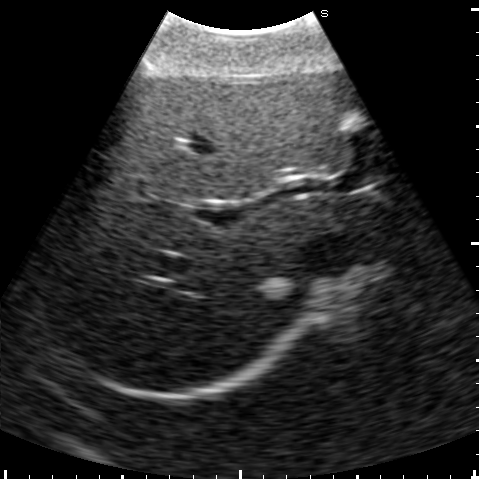IVC: (303, 234, 355, 274)
S1: (326, 197, 397, 241)
S2: (374, 179, 430, 222)
S4: (110, 69, 349, 200)
Tumor: (260, 278, 291, 298), (343, 112, 367, 129)
